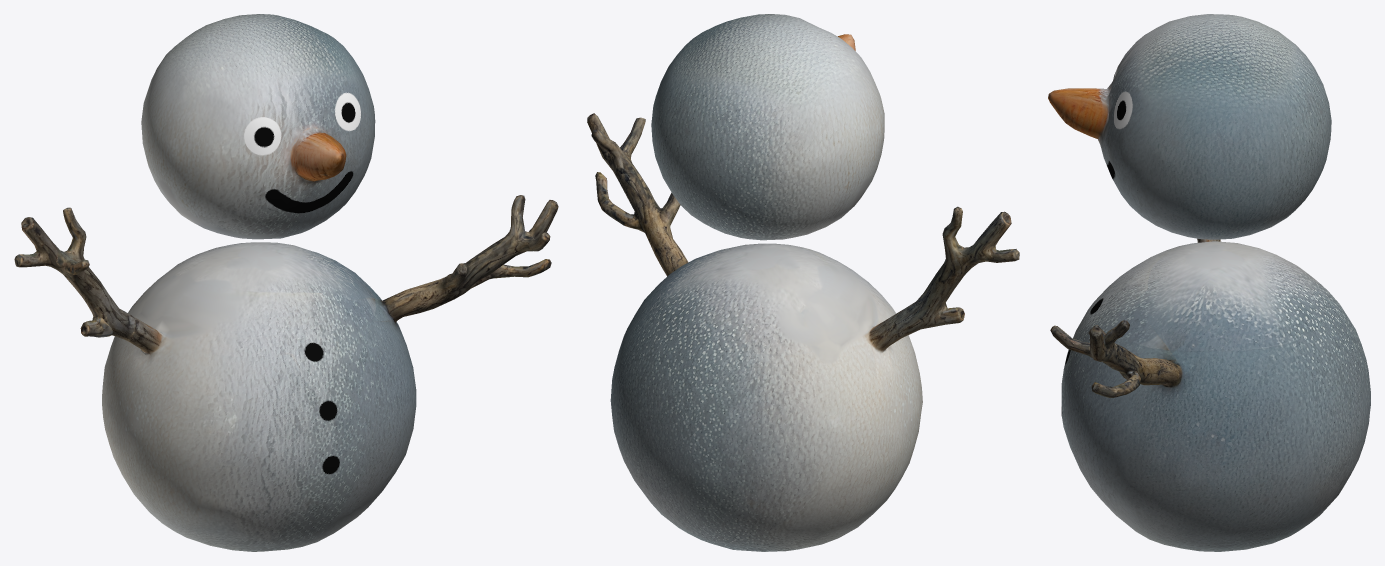
3 renders of one model, left to right at view 1: azimuth 30°, elevation 25°; view 2: azimuth 150°, elevation 25°; view 3: azimuth 270°, elevation 25°, orthographic.
Visible parts, largest first — view 1: input; view 2: input; view 3: input.
Boxes of the visible parts, bbox=[...] form: input: bbox=[14, 14, 558, 551]; input: bbox=[587, 14, 1019, 551]; input: bbox=[1048, 14, 1370, 551].
Size of the model in its own units: 1 by 0.9689 by 0.5753.
Materials: 1 (1 with a texture image).
